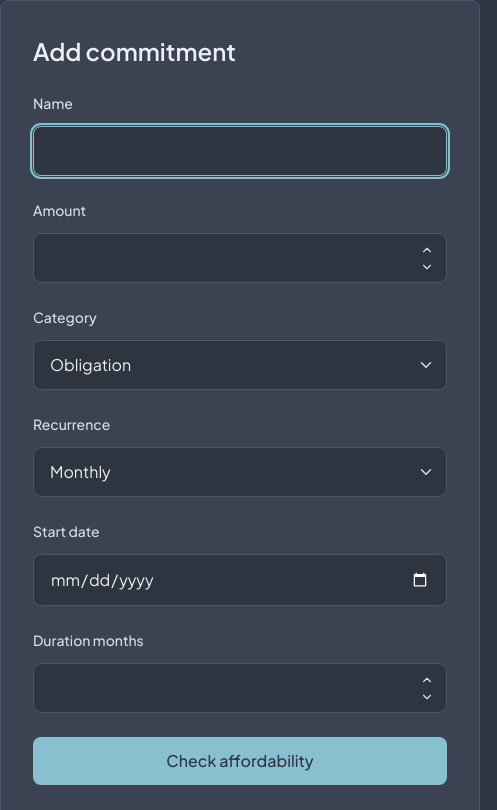
CommitmentForm › shows assessment validation errors
Type "Rent" into the field labelled "Name" at [240, 151], box [33, 126, 447, 176]
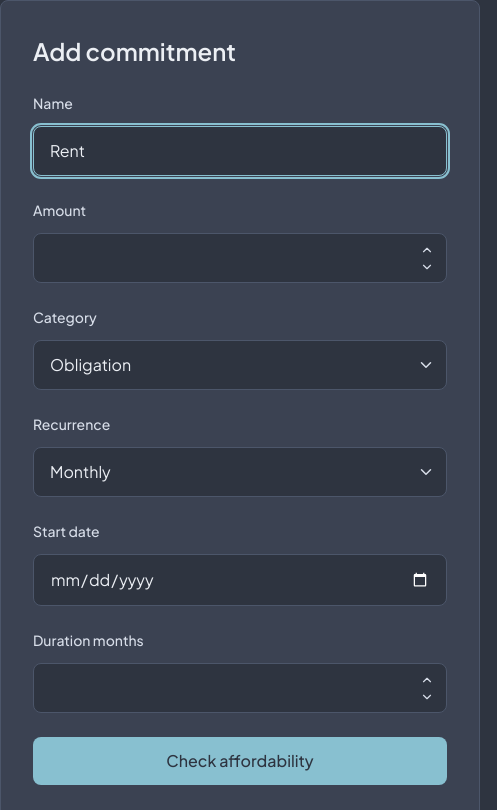
Type "100" into the field labelled "Amount" at [240, 258], box [33, 233, 447, 283]
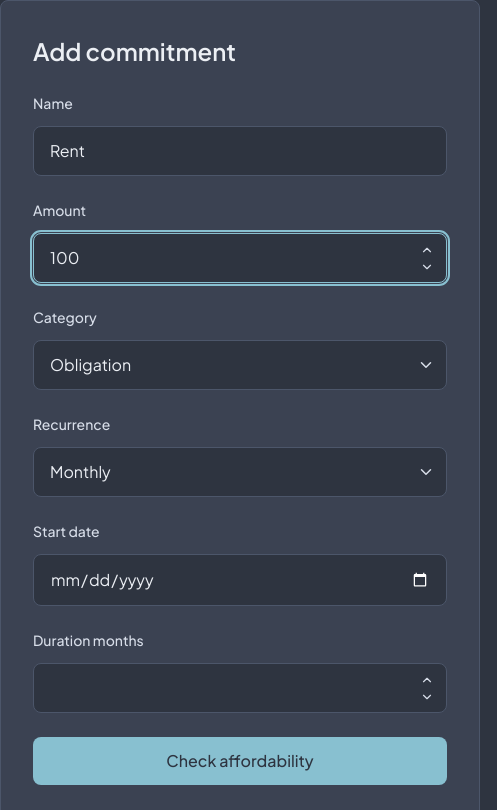
Type "2026-07-17" into the date field labelled "Start date" at [240, 580], box [33, 554, 447, 606]
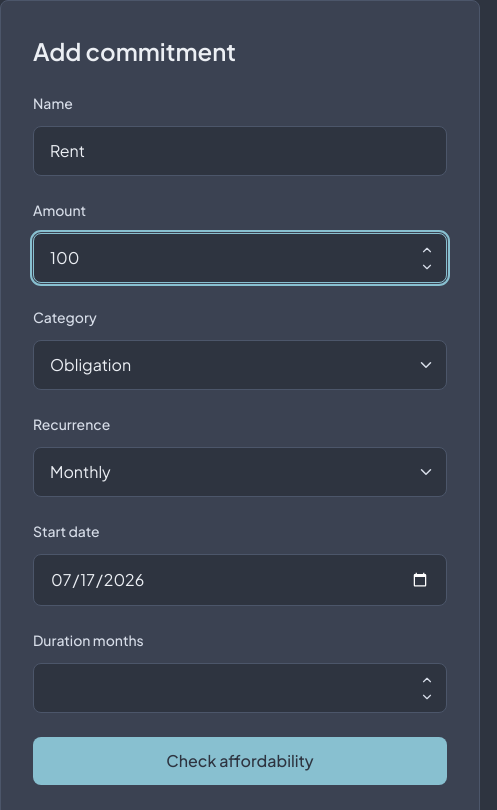
Click the button "Check affordability" at [240, 761], box [33, 737, 447, 785]
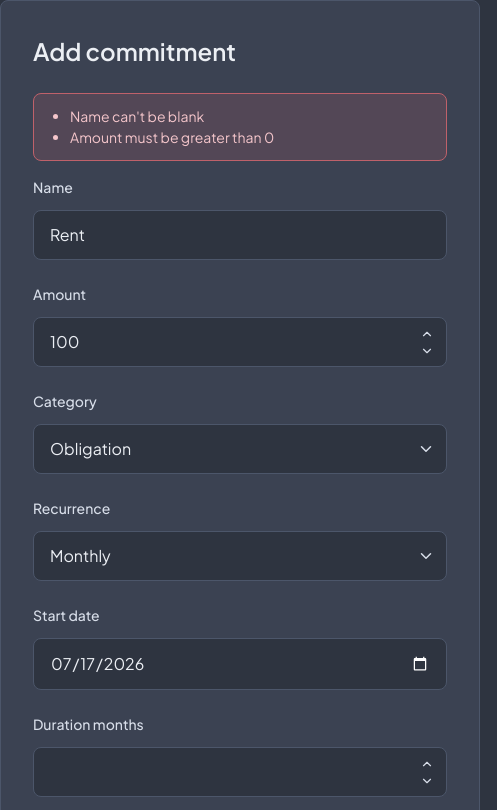
Now the list item "Name can't be blank" is shown, box [70, 107, 204, 125]
Now the list item "Amount must be greater than 0" is shown, box [70, 128, 274, 146]
